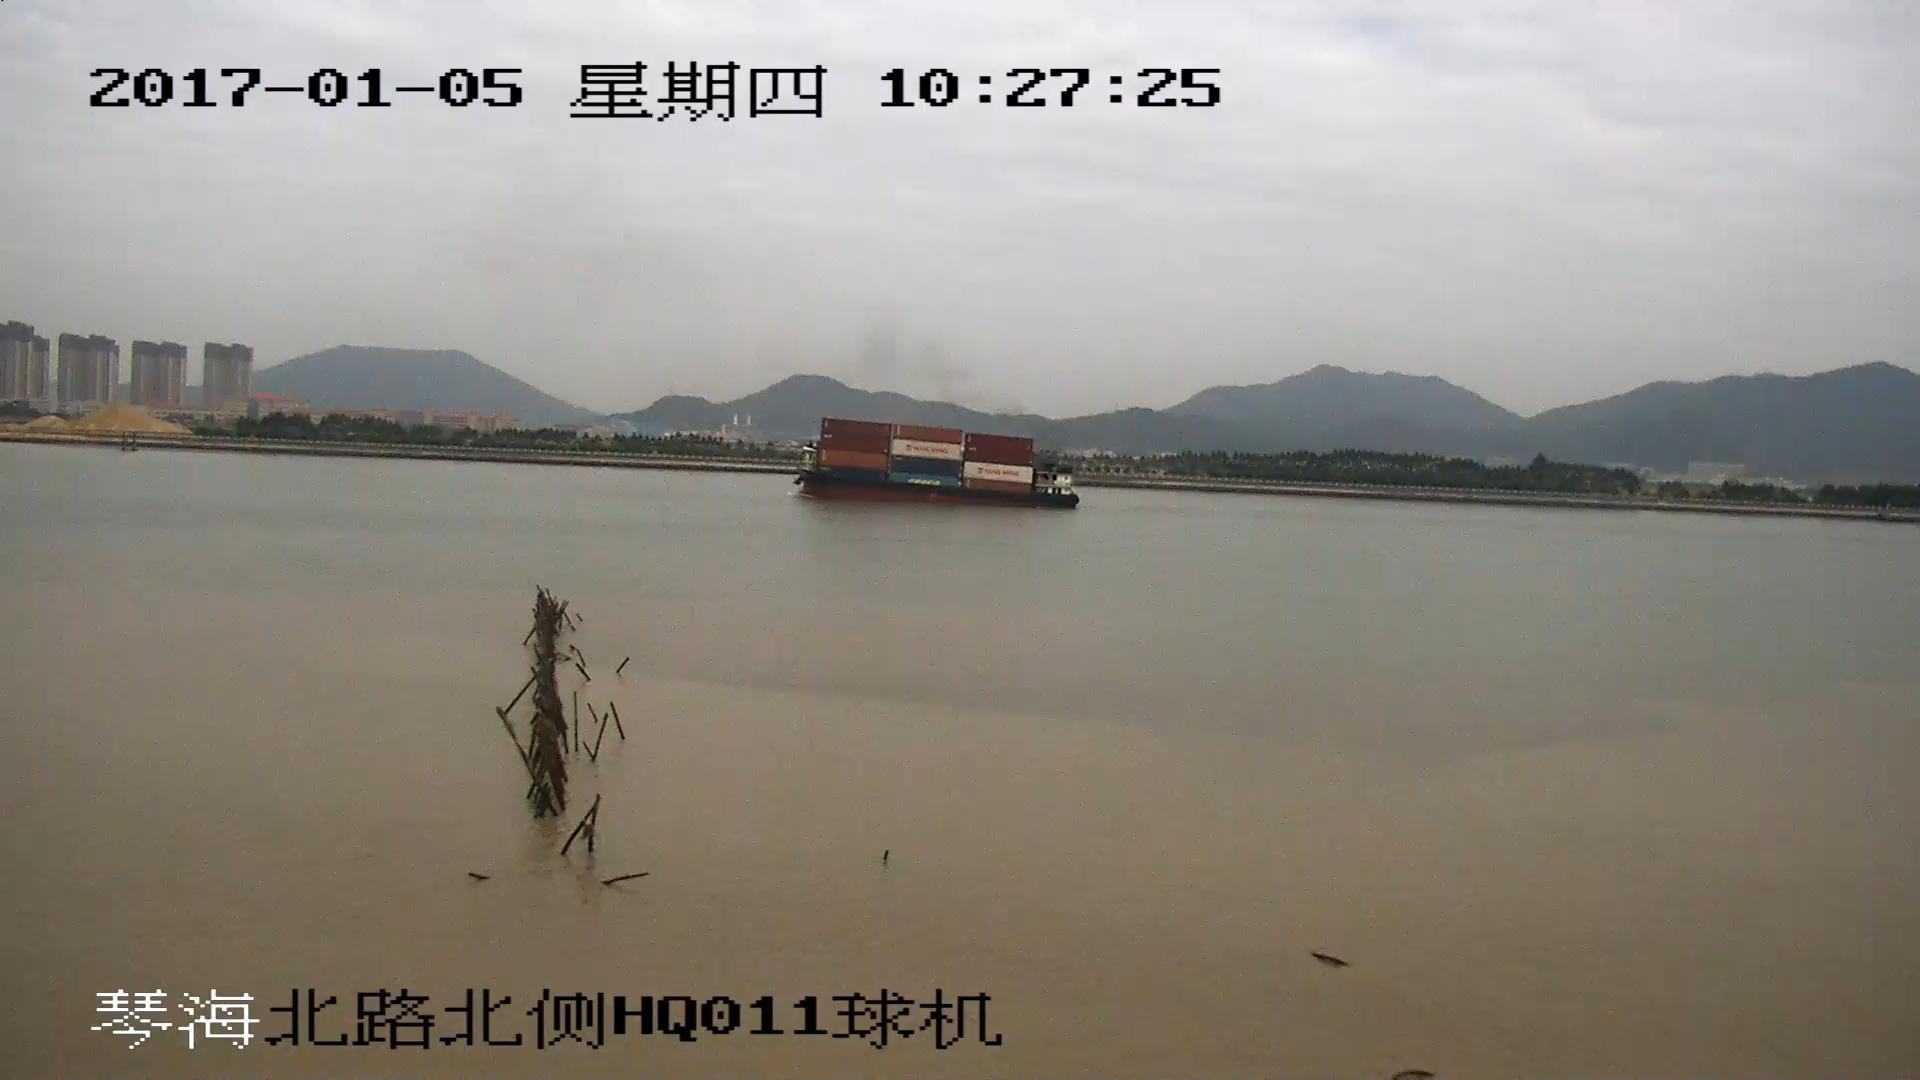Ship: (793, 419, 1077, 514)
